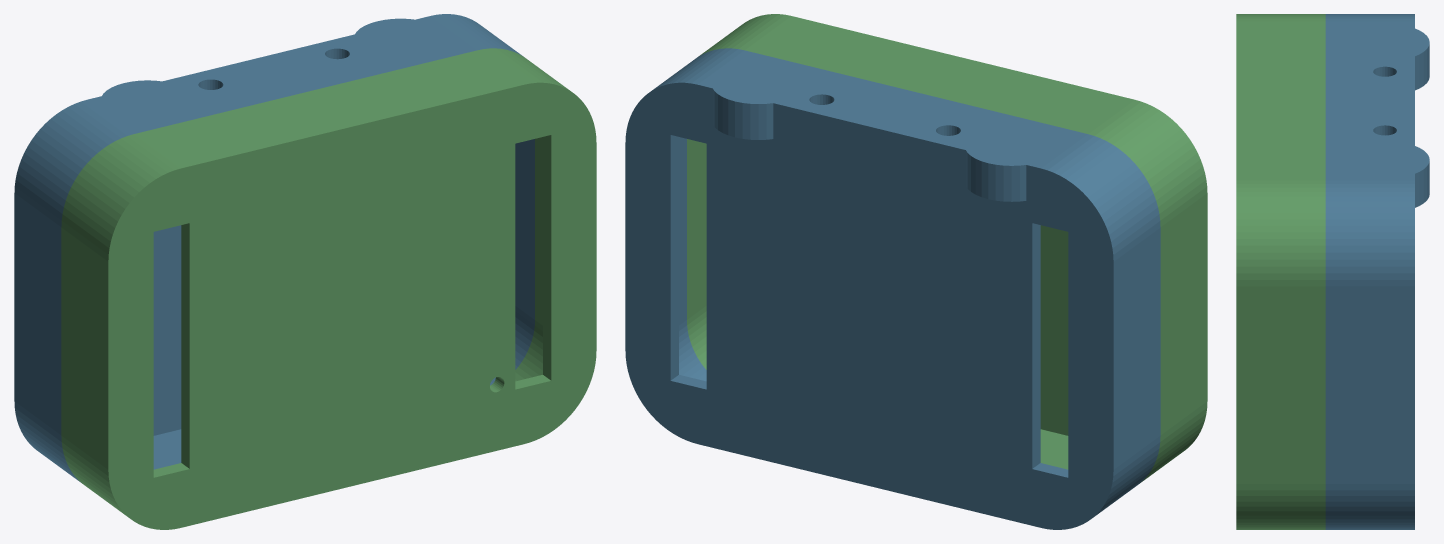
The model's file is cat-collar-shell.glb.
The picture shows the model from 3 angles, left to right: view 1: azimuth 30°, elevation 25°; view 2: azimuth 150°, elevation 25°; view 3: azimuth 270°, elevation 25°; orthographic projection. The views are drawn at different scales.
Parts seen in each view (by area): view 1: shell_top, shell_bottom; view 2: shell_bottom, shell_top; view 3: shell_bottom, shell_top.
Part boxes in pixels (x1,y1,x2,y2): shell_top: (61,48,596,529); shell_bottom: (14,14,534,482); shell_bottom: (625,48,1160,529); shell_top: (687,14,1207,482); shell_bottom: (1325,14,1429,529); shell_top: (1236,14,1325,529).
Size of the model in its own units: 54 by 38 by 19.5.
